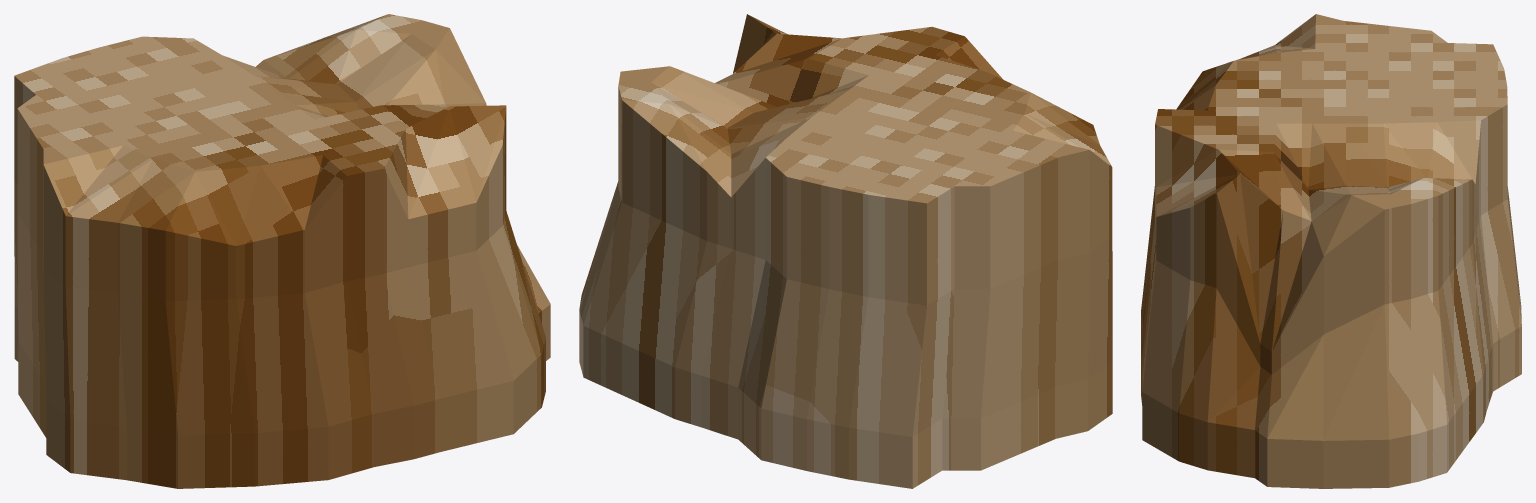
The model's file is rock_341x08.gltf.
The picture shows the model from 3 angles, left to right: view 1: azimuth 30°, elevation 25°; view 2: azimuth 150°, elevation 25°; view 3: azimuth 270°, elevation 25°; orthographic projection. The views are drawn at different scales.
Parts seen in each view (by area): view 1: Rock_341x8; view 2: Rock_341x8; view 3: Rock_341x8.
Part boxes in pixels (box(x1,y1,x2,y2)): Rock_341x8: box(14, 14, 550, 488); Rock_341x8: box(579, 14, 1112, 488); Rock_341x8: box(1141, 14, 1521, 488).
Size of the model in its own units: 2.32 by 1.33 by 1.75.
Materials: 1 (1 with a texture image).
